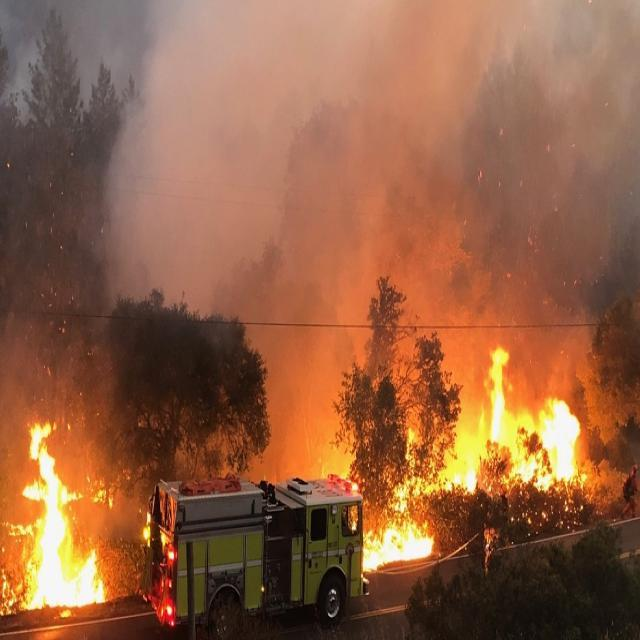Smoke: (91, 0, 502, 336)
